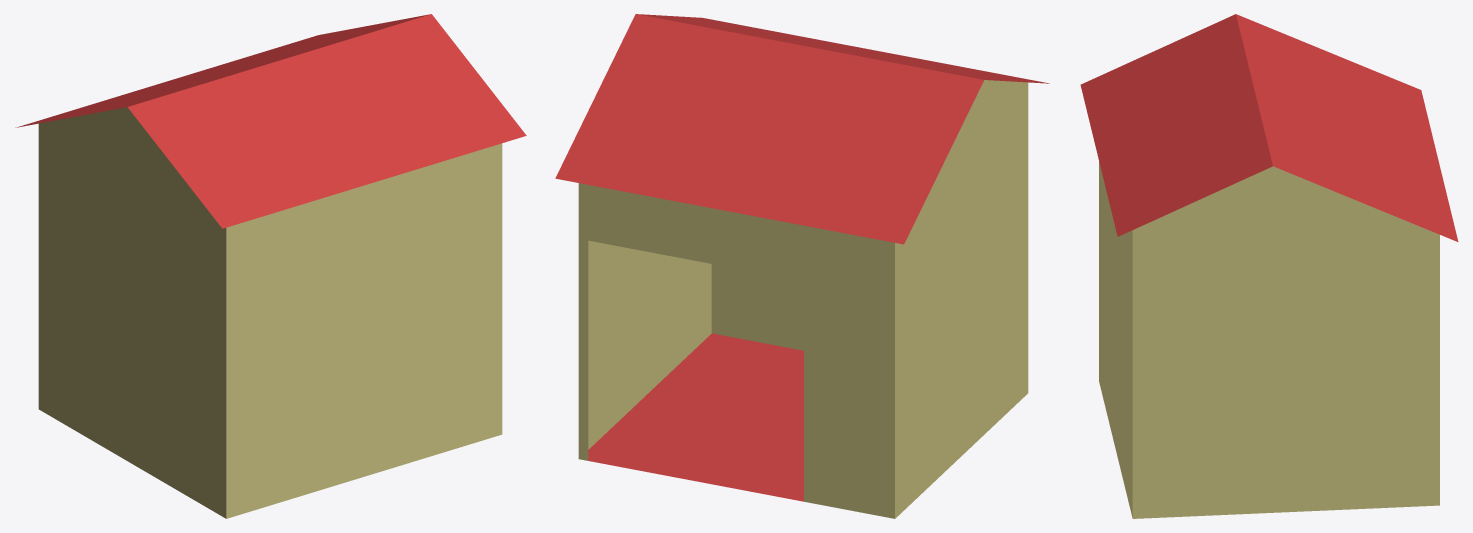
3 views of the same model, side by side, from view 1: azimuth 30°, elevation 25°; view 2: azimuth 150°, elevation 25°; view 3: azimuth 270°, elevation 25° (orthographic). The views are drawn at different scales.
Bounding box in the file's own units: 11.78 × 11.26 × 11.62.
